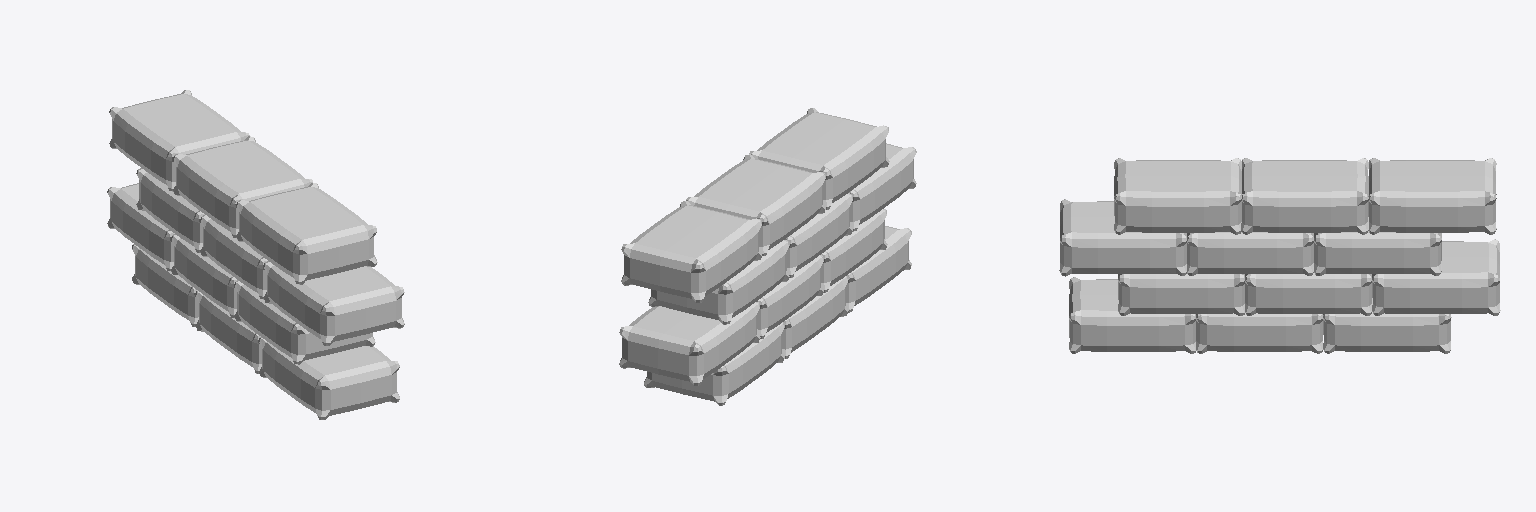
Rendered from BarricadeButSmaller.obj.
The picture shows the model from 3 angles: view 1: azimuth 30°, elevation 25°; view 2: azimuth 150°, elevation 25°; view 3: azimuth 270°, elevation 25°; orthographic projection.
Parts seen in each view (by area): view 1: Barricade; view 2: Barricade; view 3: Barricade.
Part boxes in pixels (bbox=[...]): Barricade: bbox=[107, 90, 404, 419]; Barricade: bbox=[619, 108, 916, 405]; Barricade: bbox=[1059, 158, 1500, 353].
Size of the model in its own units: 1.07 by 1.98 by 4.91.